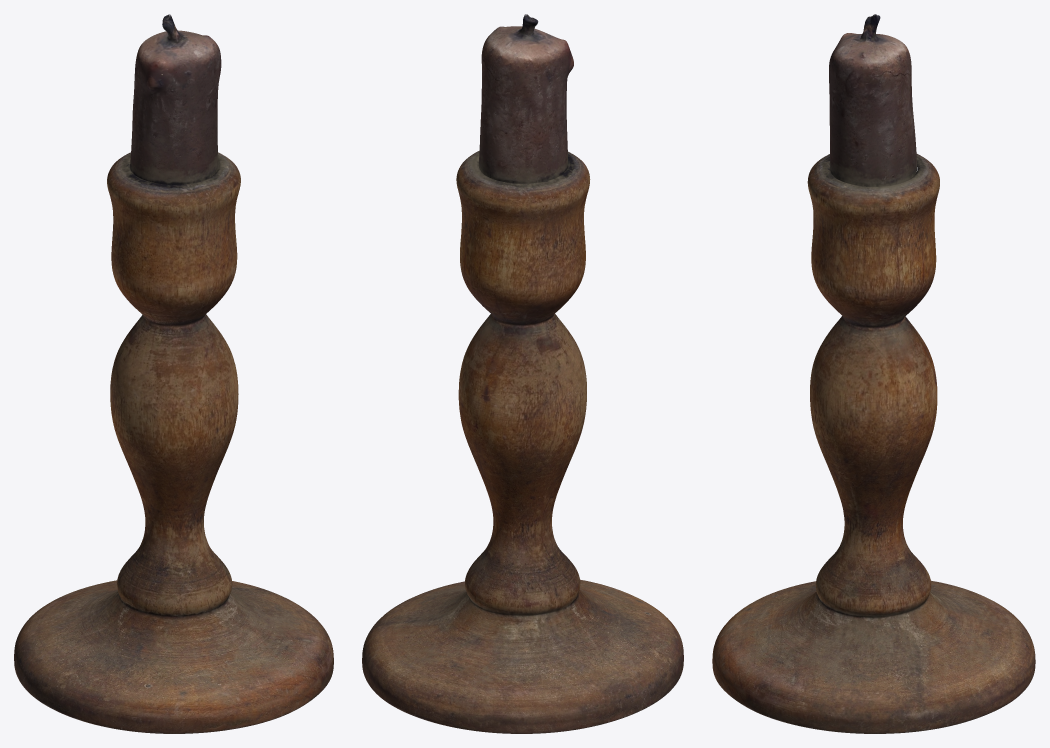
File: wooden_candlestick_lod1.glb
3 renders of one model, left to right at view 1: azimuth 30°, elevation 25°; view 2: azimuth 150°, elevation 25°; view 3: azimuth 270°, elevation 25°, orthographic.
Visible parts, largest first — view 1: wooden_candlestick; view 2: wooden_candlestick; view 3: wooden_candlestick.
Part boxes in pixels (x1,y1,x2,y2): wooden_candlestick: [14, 14, 333, 733]; wooden_candlestick: [362, 14, 683, 733]; wooden_candlestick: [712, 14, 1035, 733].
Bounding box in the file's own units: 0.0972 × 0.2197 × 0.0987.
1 material, 1 textured.
